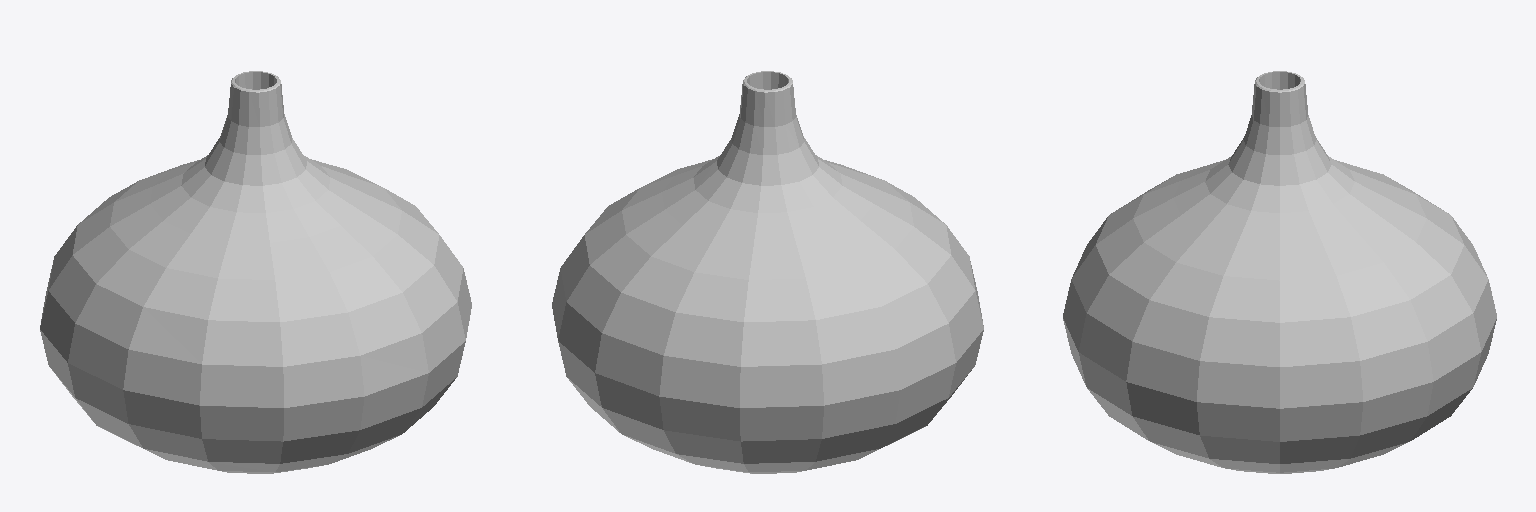
Rendered from vase_4.obj.
3 renders of one model, left to right at view 1: azimuth 30°, elevation 25°; view 2: azimuth 150°, elevation 25°; view 3: azimuth 270°, elevation 25°, orthographic.
Visible parts, largest first — view 1: vase_007; view 2: vase_007; view 3: vase_007.
Part boxes in pixels (x1,y1,x2,y2): vase_007: (40, 71, 471, 473); vase_007: (552, 71, 983, 473); vase_007: (1063, 71, 1496, 473).
Bounding box in the file's own units: 0.1397 × 0.1242 × 0.1397.